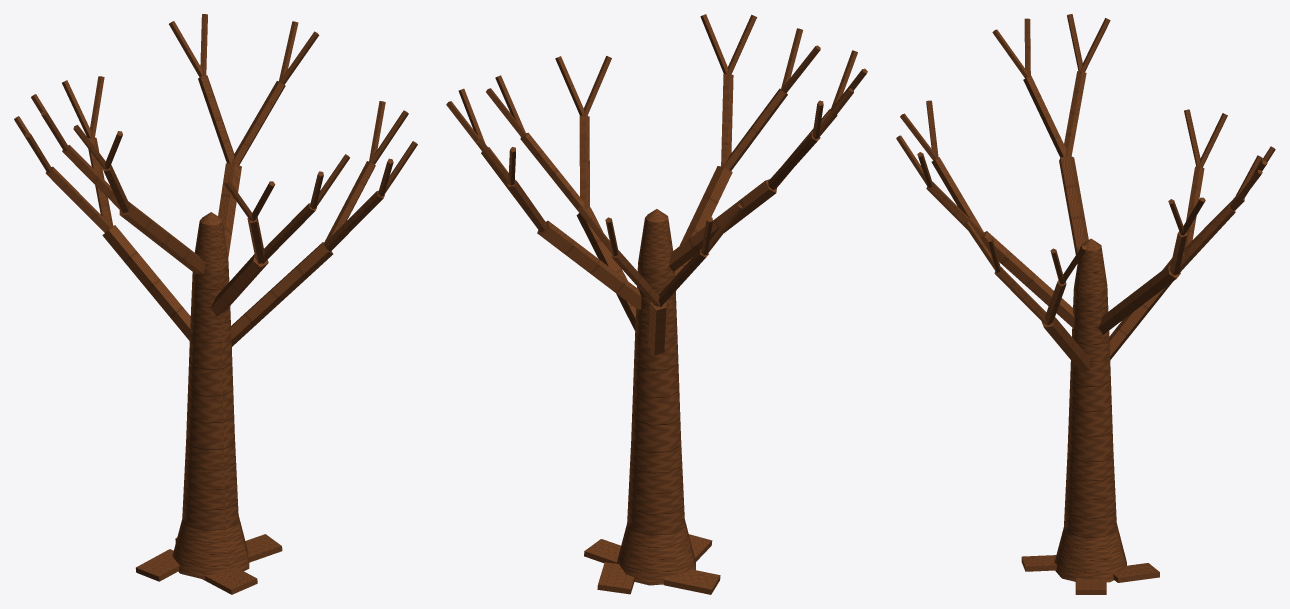
Rendered from halloween-slasher-street-dead-oak-tree-f23f4382__27285.glb.
3 views of the same model, side by side, from view 1: azimuth 30°, elevation 25°; view 2: azimuth 150°, elevation 25°; view 3: azimuth 270°, elevation 25° (orthographic). The views are drawn at different scales.
Visible parts, largest first — view 1: dead-oak-tree; view 2: dead-oak-tree; view 3: dead-oak-tree.
Boxes of the visible parts, x1=… form: dead-oak-tree: x1=14, y1=14, x2=417, y2=594; dead-oak-tree: x1=446, y1=14, x2=867, y2=594; dead-oak-tree: x1=896, y1=14, x2=1275, y2=594.
Bounding box in the file's own units: 4.27 × 5.77 × 4.17.
1 material, 1 textured.
